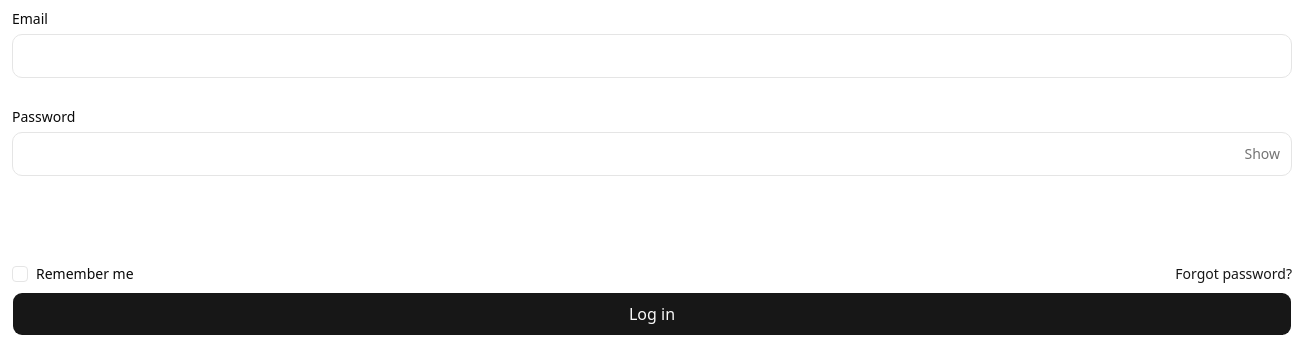
LoginSection › shows a rate limited message
Type "limited@example.com" into the field labelled "Email".
click(652, 56); type("limited@example.com")  # box [12,34,1292,78]
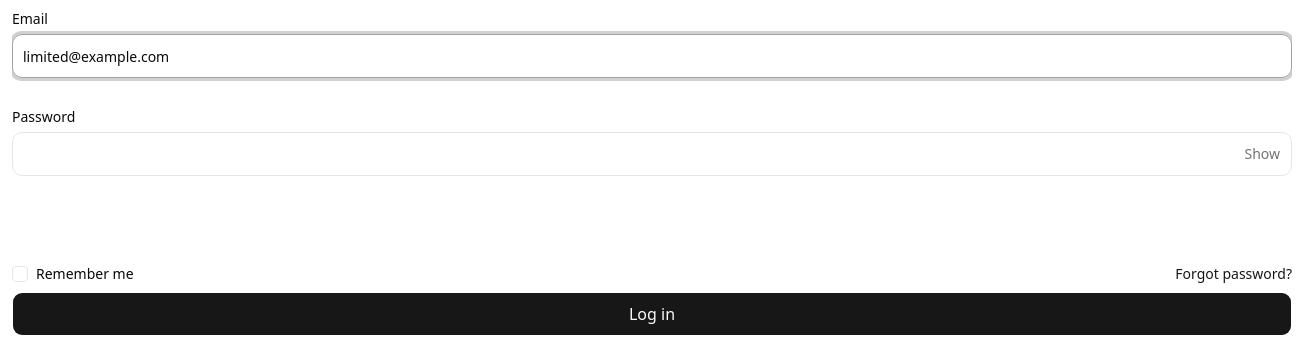
Type "password" into the password field labelled "Password".
click(652, 154); type("password")  # box [12,132,1292,176]
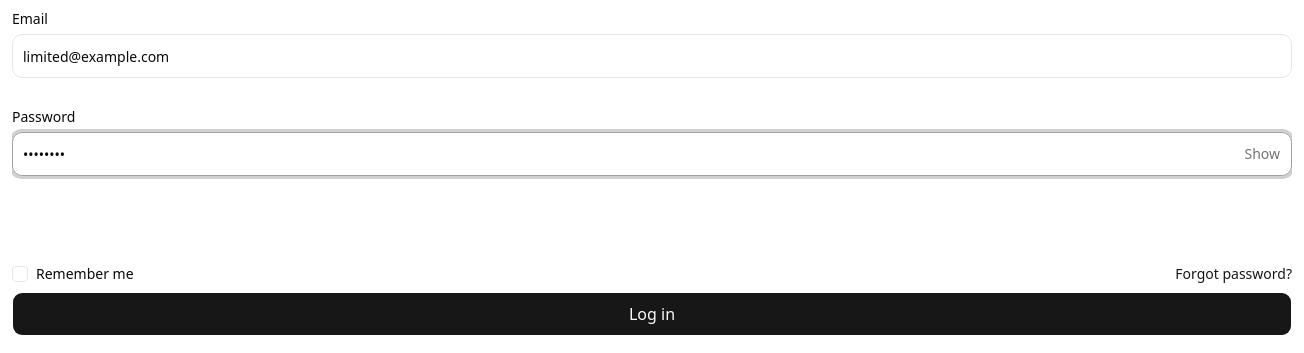
Click the button "Log in".
click(652, 314)  # box [12,292,1292,336]
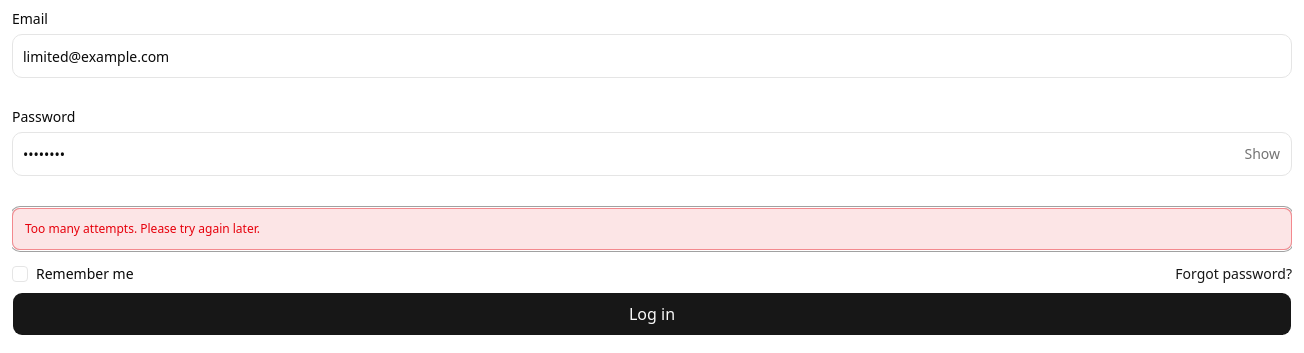
Expected: the message reads "Too many attempts. Please try again later.", [25,220,260,237]
